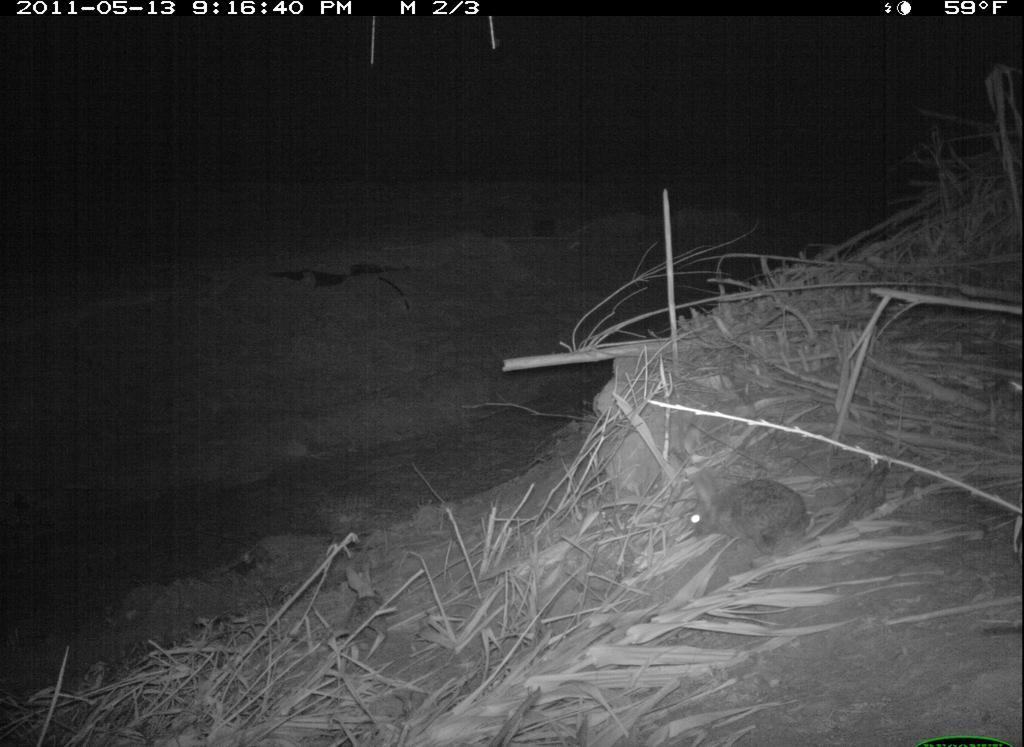rabbit: (689, 469, 818, 559)
